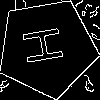H: (22, 22, 73, 67)
